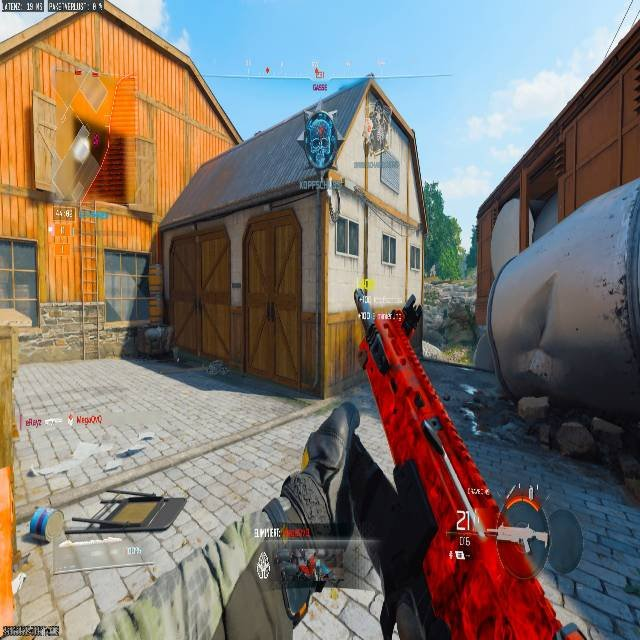player: (304, 112, 337, 171), (401, 294, 421, 338), (350, 287, 370, 323)
